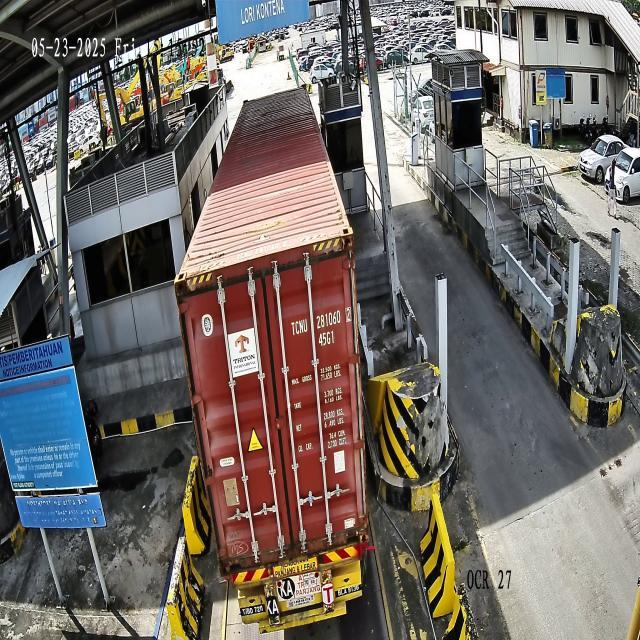ISO: (318, 329, 334, 347)
container_number: (290, 305, 352, 339)
